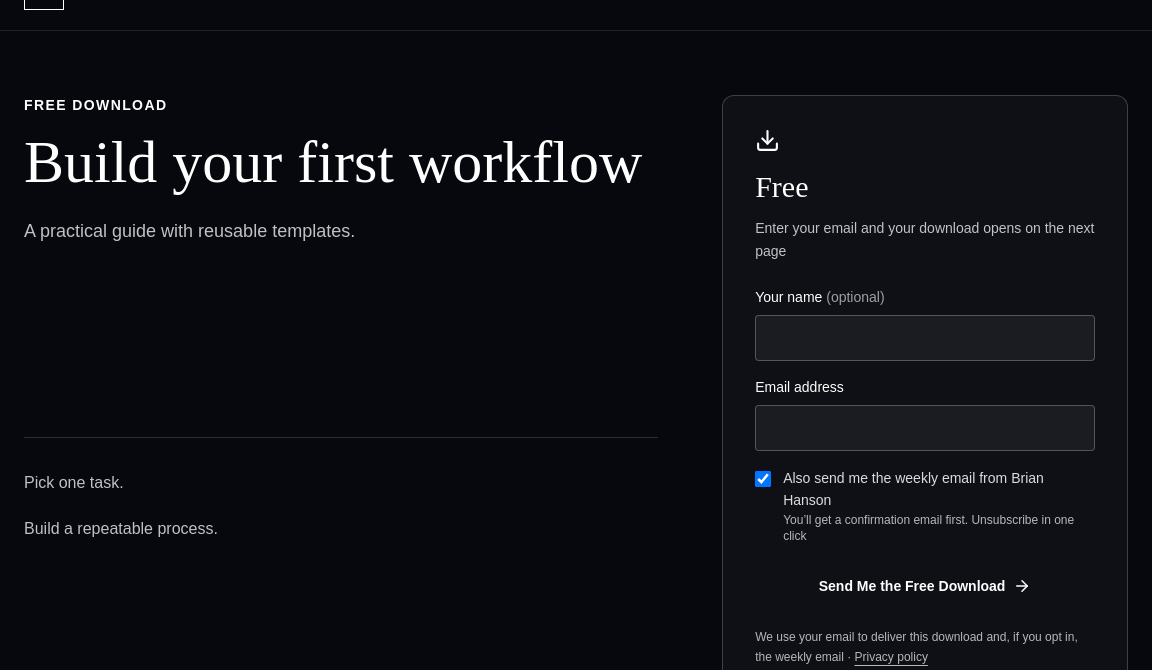
Test case: offer visitor journey › allows an explicit fresh checkout after a verified terminal attempt
Later steps or results of the test are not shown.
Type "person@example.com" into the field labelled "Email address" at (925, 428), box left=755, top=404, right=1095, bottom=450
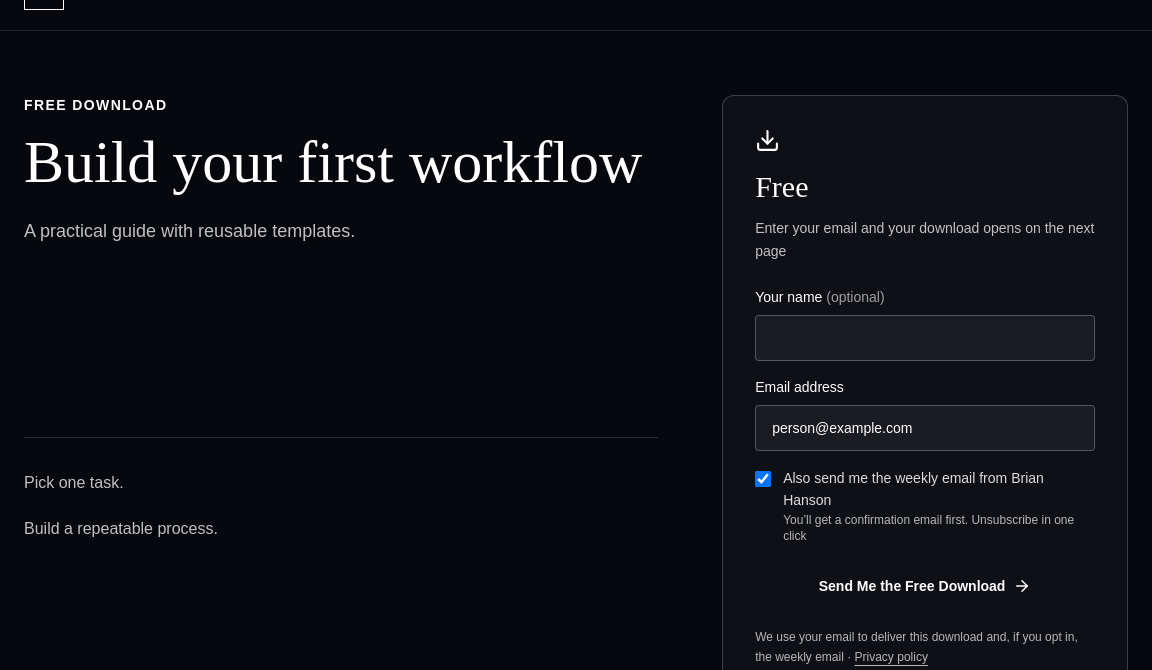
Submit the form named "Send Me the Free Download", box left=755, top=286, right=1095, bottom=667
(page scrolled)
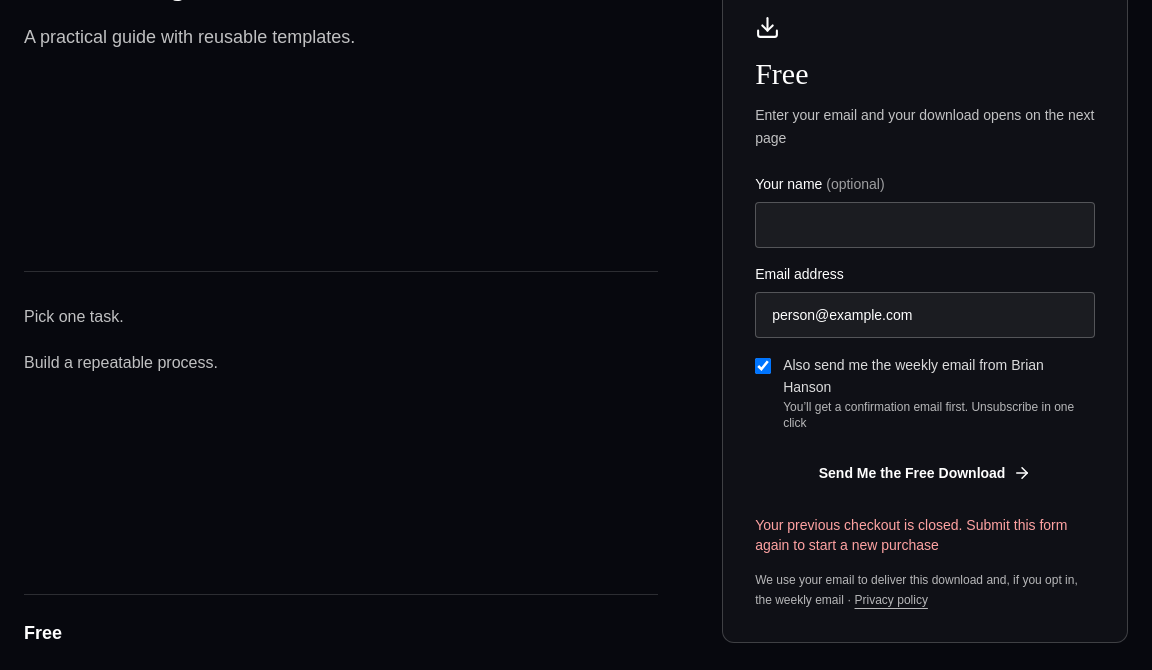
Expected: the text "previous checkout is closed" is shown, left=755, top=517, right=1067, bottom=553
